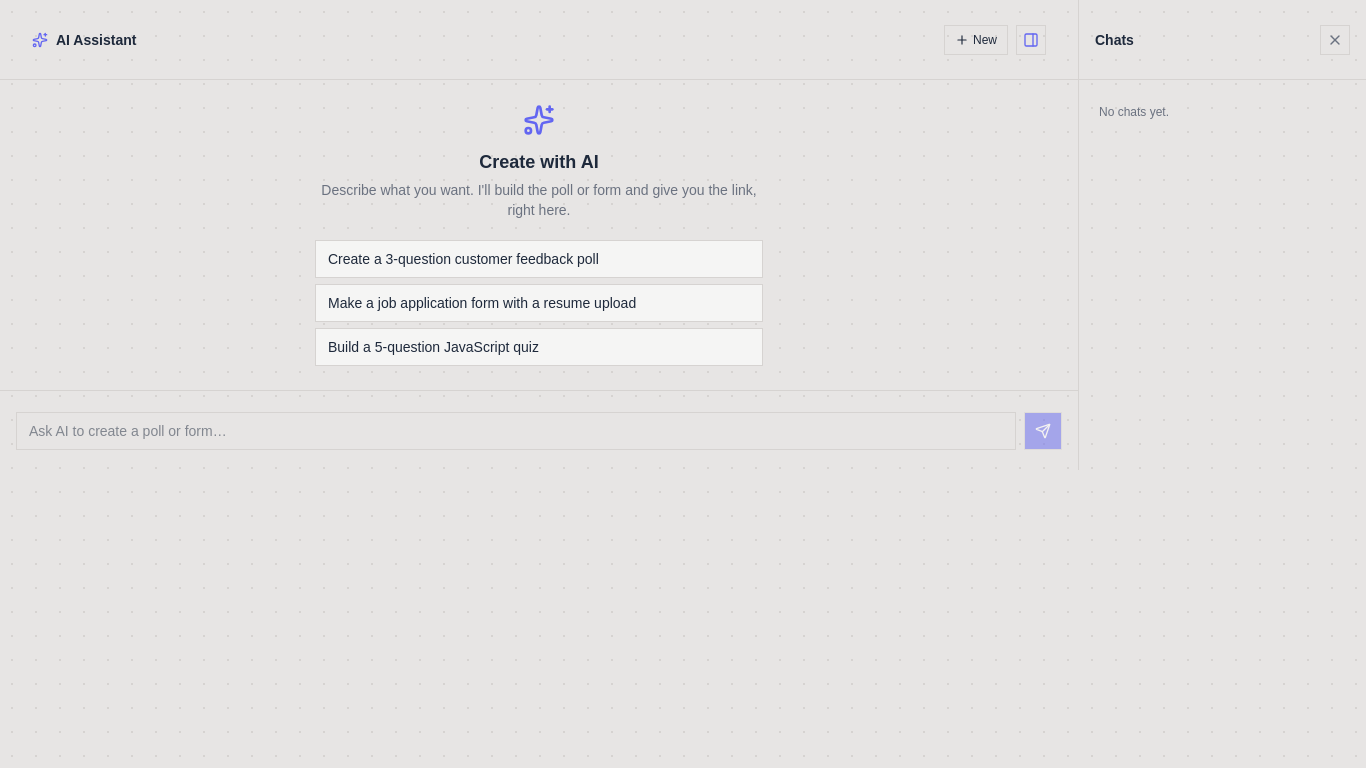
Test: ChatPage (dashboard assistant) › renders assistant markdown (bold + lists) instead of raw text
Type "make a quiz" into the text box with placeholder "Ask AI to create a poll or form…".
click(516, 430); type("make a quiz")  # box [16,412,1016,450]
Then press Enter
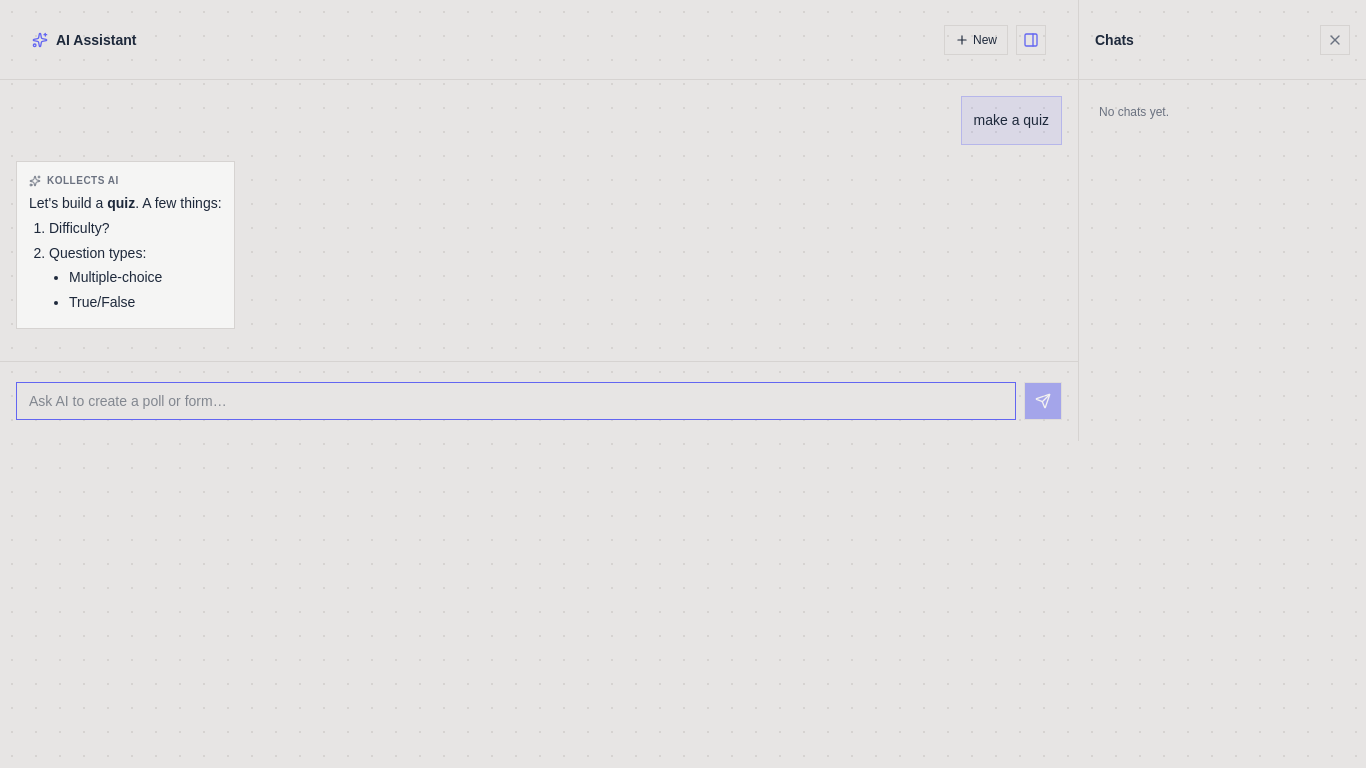
Expected: the list item "Multiple-choice" is shown, [69,269,162,285]
Expected: the list is shown, [49,220,162,310]
